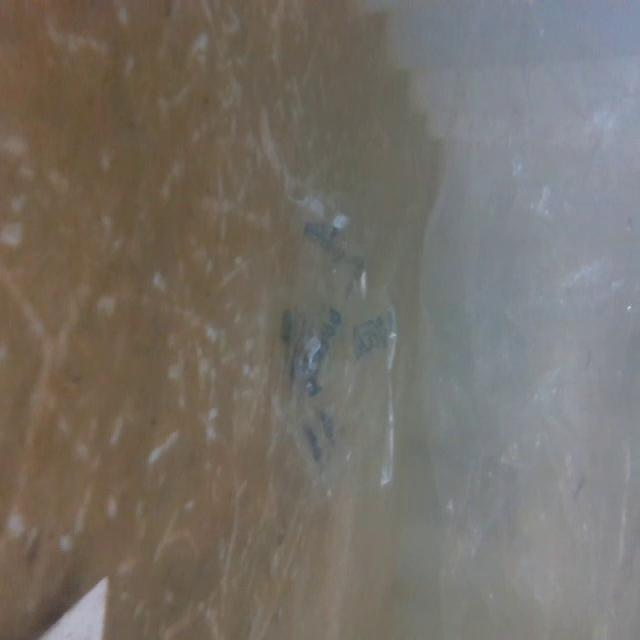metal: (16, 572, 116, 640)
plastic bags: (425, 0, 640, 640), (266, 195, 410, 509)
